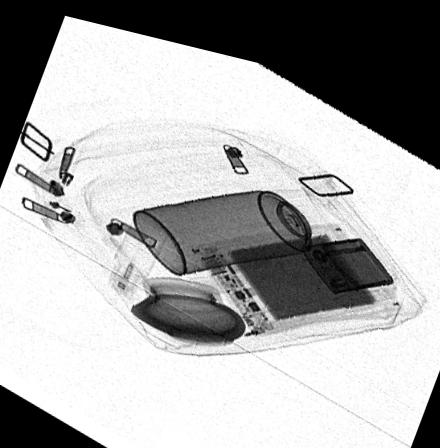Lighter: (300, 220, 393, 278)
Powerbank: (189, 205, 402, 324)
Sprayer: (131, 175, 347, 268)
